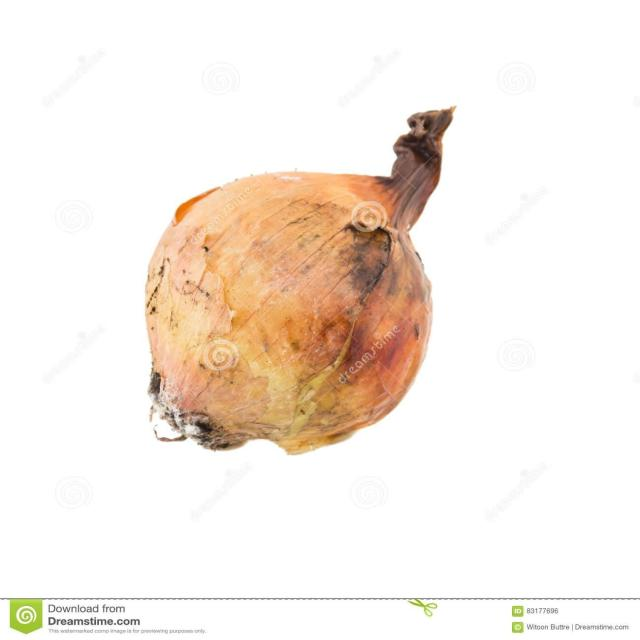Onion: (142, 105, 458, 458)
